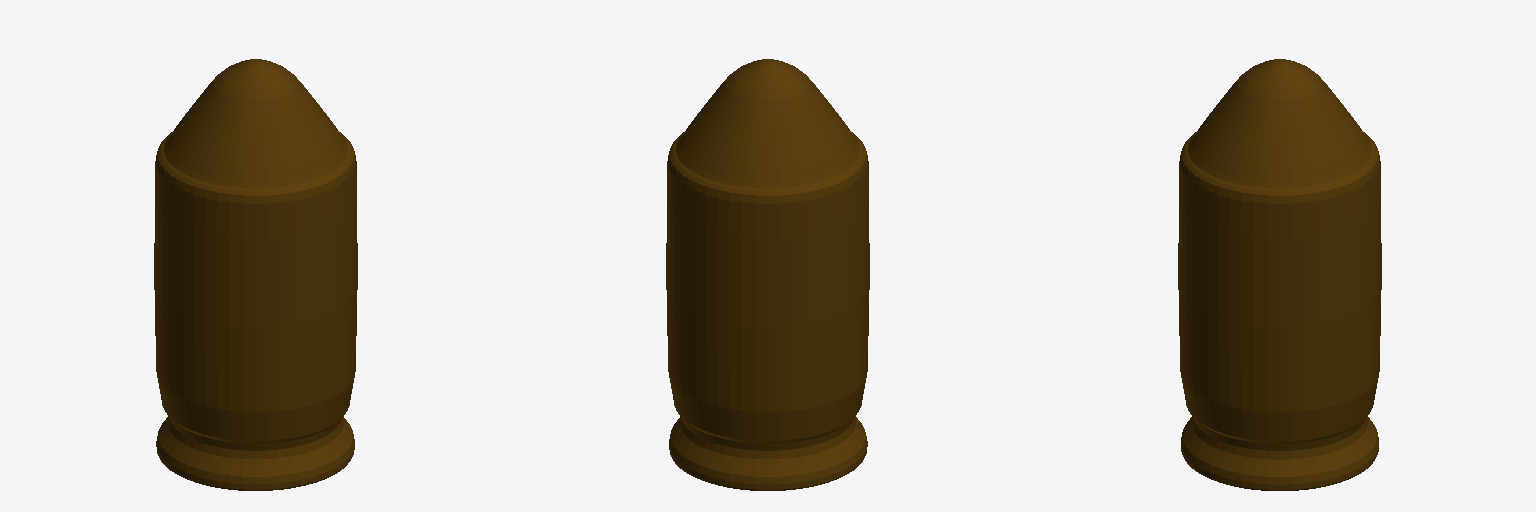
The model's file is bullet.obj.
The picture shows the model from 3 angles: view 1: azimuth 30°, elevation 25°; view 2: azimuth 150°, elevation 25°; view 3: azimuth 270°, elevation 25°; orthographic projection.
Parts seen in each view (by area): view 1: Cylinder; view 2: Cylinder; view 3: Cylinder.
Boxes of the visible parts, <box> form: Cylinder: <box>154,59,357,490</box>; Cylinder: <box>666,59,869,490</box>; Cylinder: <box>1178,59,1381,490</box>.
Size of the model in its own units: 1.07 by 2.28 by 1.07.